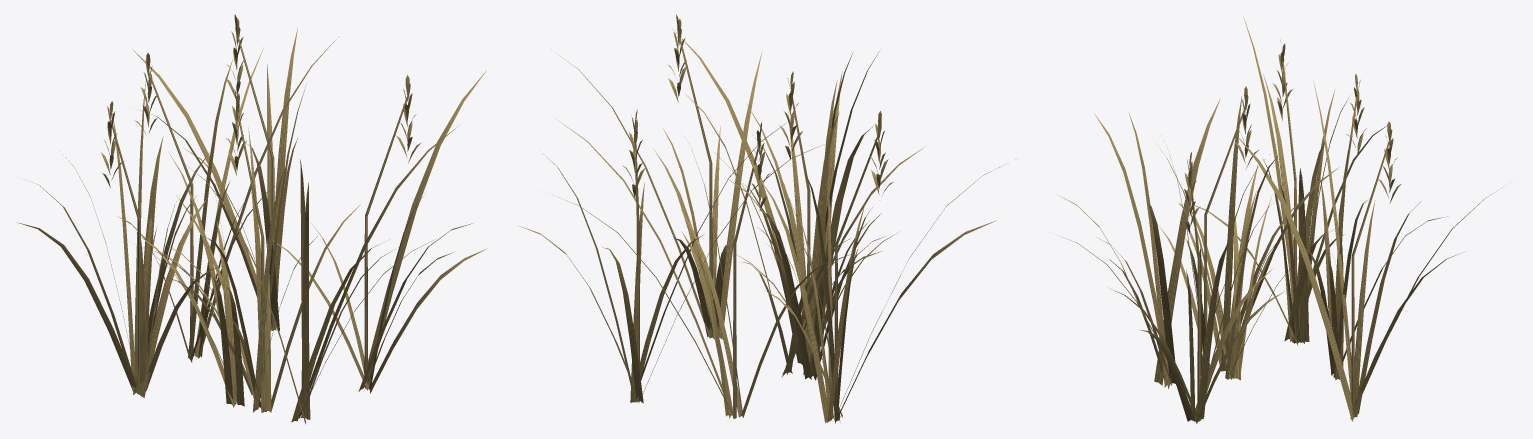
File: DryBrome_C.fbx
The picture shows the model from 3 angles, left to right: view 1: azimuth 30°, elevation 25°; view 2: azimuth 150°, elevation 25°; view 3: azimuth 270°, elevation 25°; orthographic projection. The views are drawn at different scales.
Parts seen in each view (by area): view 1: DryBrome_C_LOD0; view 2: DryBrome_C_LOD0; view 3: DryBrome_C_LOD0.
Part boxes in pixels (left/top/right/bottom): DryBrome_C_LOD0: left=17, top=14, right=487, bottom=424; DryBrome_C_LOD0: left=517, top=14, right=1017, bottom=423; DryBrome_C_LOD0: left=1057, top=16, right=1501, bottom=423.
Size of what is drawn, in the model's own units: 56.46 by 35.51 by 52.26.
1 material, 1 textured.
